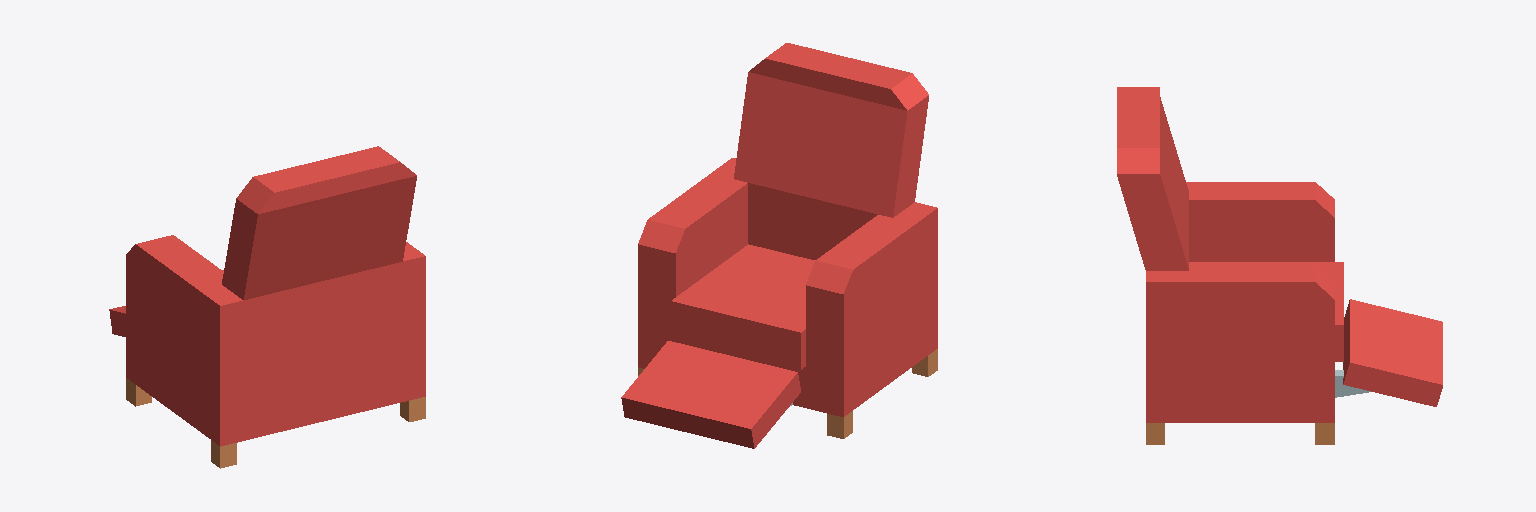
The model's file is loungeChairRelax.obj.
The picture shows the model from 3 angles: view 1: azimuth 30°, elevation 25°; view 2: azimuth 150°, elevation 25°; view 3: azimuth 270°, elevation 25°; orthographic projection.
Parts seen in each view (by area): view 1: loungeChairRelax; view 2: loungeChairRelax; view 3: loungeChairRelax.
Boxes of the visible parts, x1,y1,x2,y2 form: loungeChairRelax: [109, 146, 425, 468]; loungeChairRelax: [621, 43, 937, 448]; loungeChairRelax: [1117, 87, 1442, 444].
Bounding box in the file's own units: 0.49 × 0.63 × 0.6747.